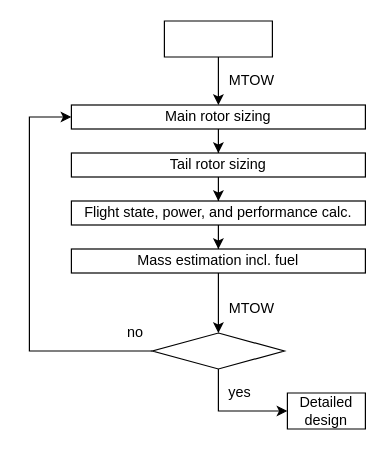
The diagram is 386 pixels wide and 450 high, and some of its shapes have lost their labels. The box of each missing label's shape, as (x1, y1, x2, y2) in pixels:
converged?: (151, 332, 284, 369)
Determine initial MTOW: (163, 20, 272, 57)
